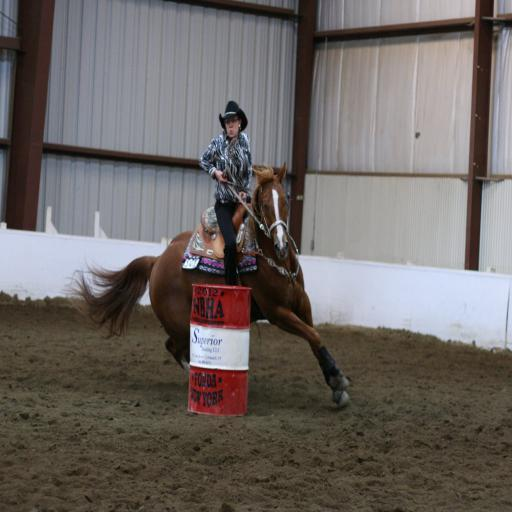horse: (62, 159, 352, 407)
